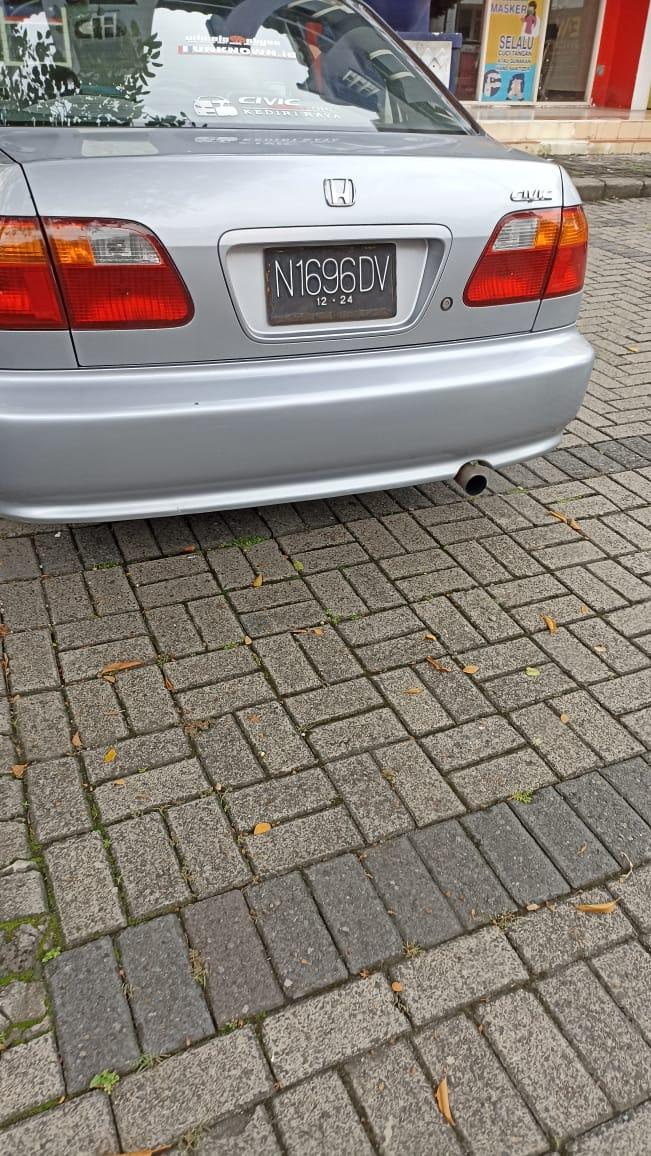plat: (266, 244, 397, 325)
